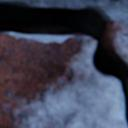broken_brick: (0, 33, 126, 127), (105, 20, 127, 65)
crack: (0, 1, 127, 127)
